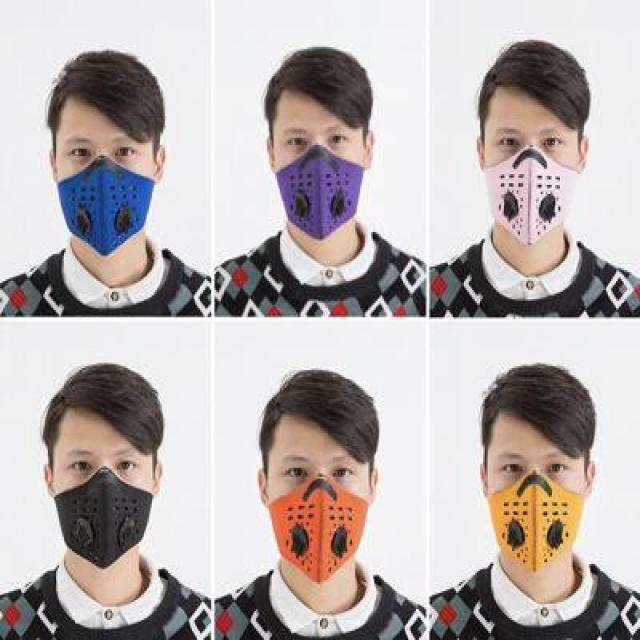with_mask: (271, 449, 369, 581), (53, 441, 152, 565), (57, 131, 151, 255), (486, 121, 580, 244), (489, 449, 585, 567), (280, 121, 365, 240)
